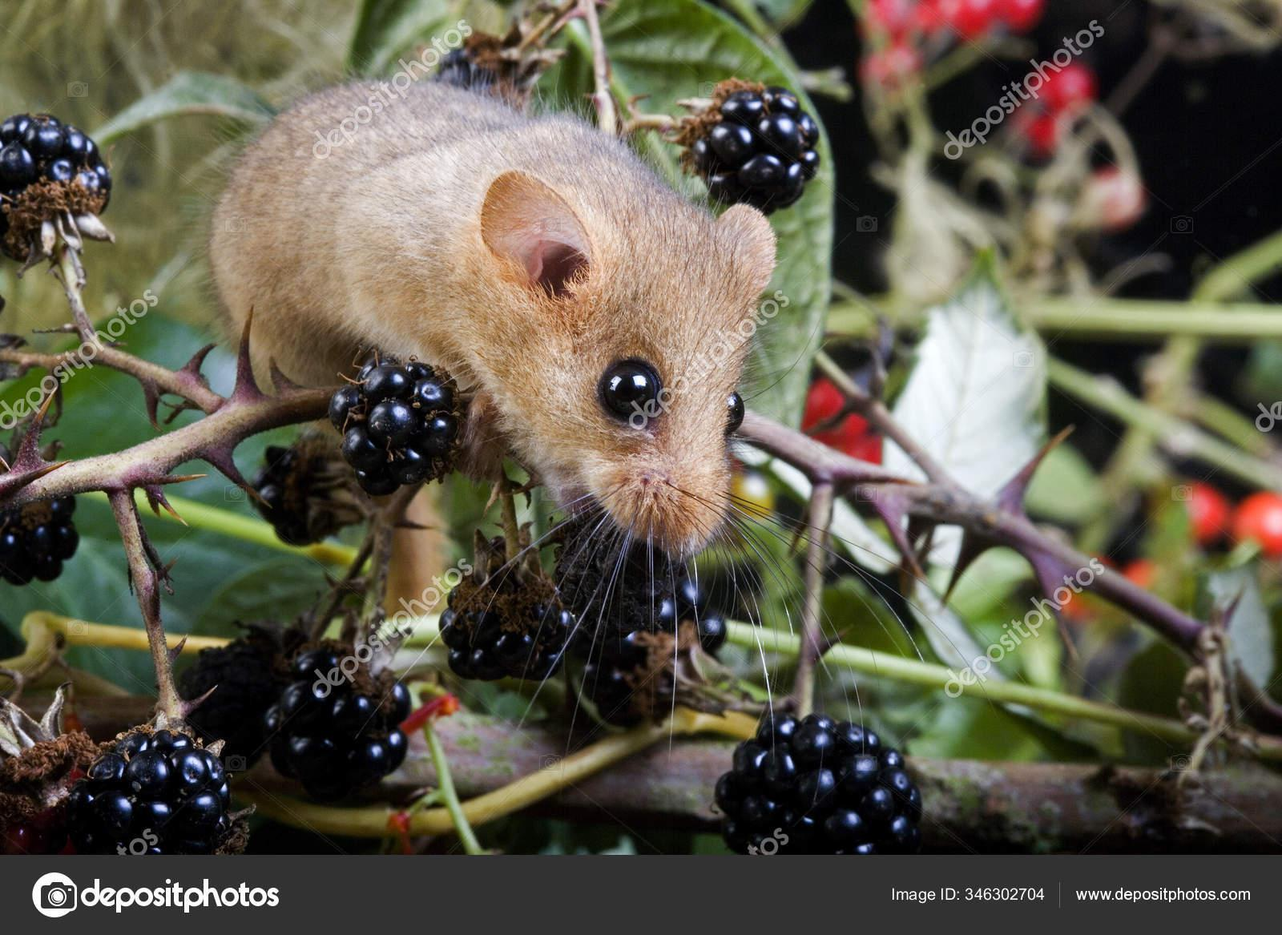rat: (212, 82, 774, 553)
